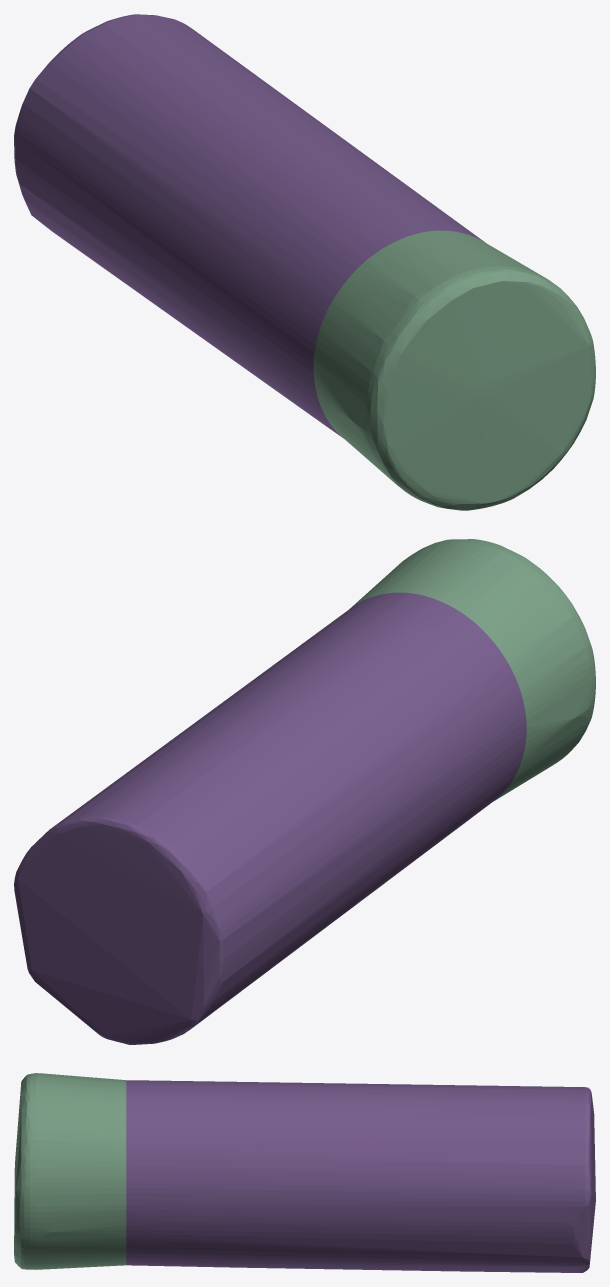
Rendered from coacd_collision.obj.
3 views of the same model, one above another, from view 1: azimuth 30°, elevation 25°; view 2: azimuth 150°, elevation 25°; view 3: azimuth 270°, elevation 25° (orthographic). The views are drawn at different scales.
Visible parts, largest first — view 1: geometry_1, geometry_0; view 2: geometry_1, geometry_0; view 3: geometry_1, geometry_0.
Part boxes in pixels (left/top/right/bottom): geometry_1: left=14, top=14, right=485, bottom=437; geometry_0: left=313, top=230, right=595, bottom=510; geometry_1: left=14, top=592, right=526, bottom=1044; geometry_0: left=350, top=539, right=595, bottom=801; geometry_1: left=126, top=1080, right=595, bottom=1272; geometry_0: left=14, top=1073, right=126, bottom=1269.
Bounding box in the file's own units: 73.26 × 74.8 × 218.
